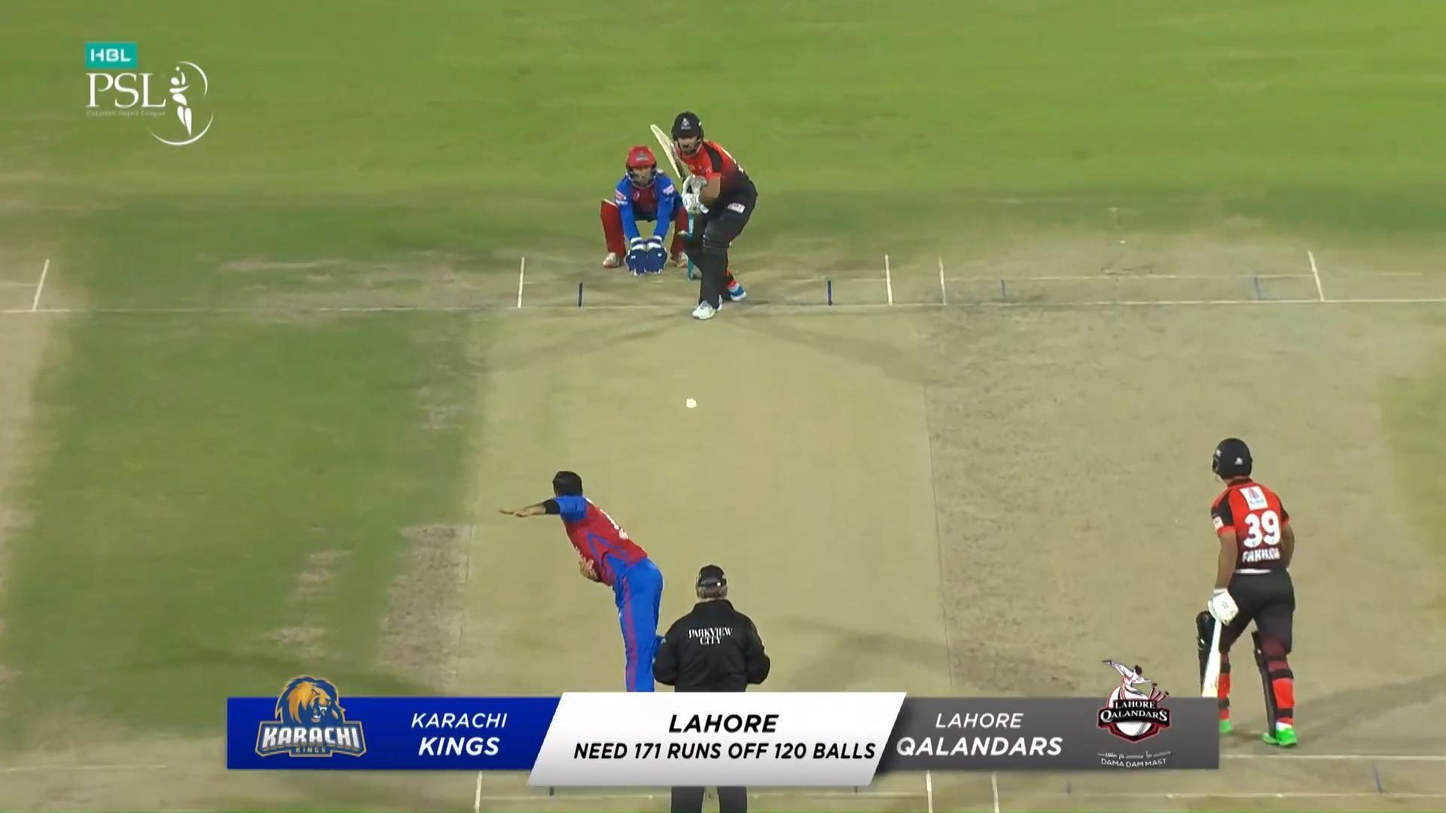BM 1: (648, 111, 759, 321)
BO: (499, 469, 663, 693)
